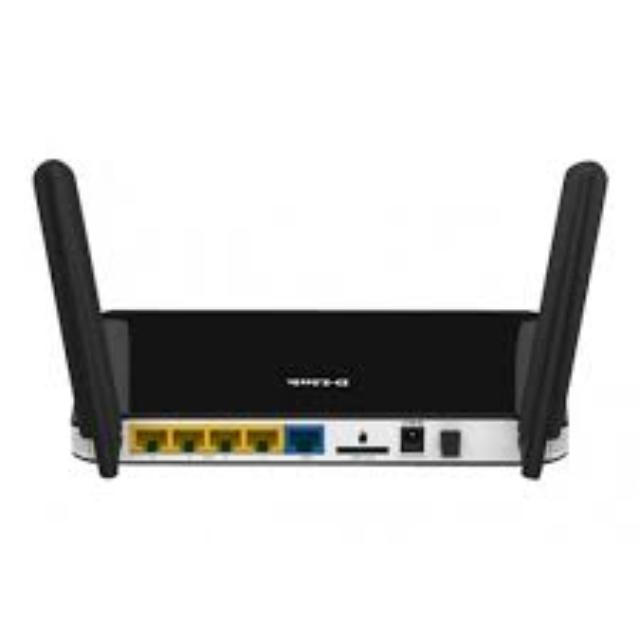Router: (22, 140, 620, 498)
